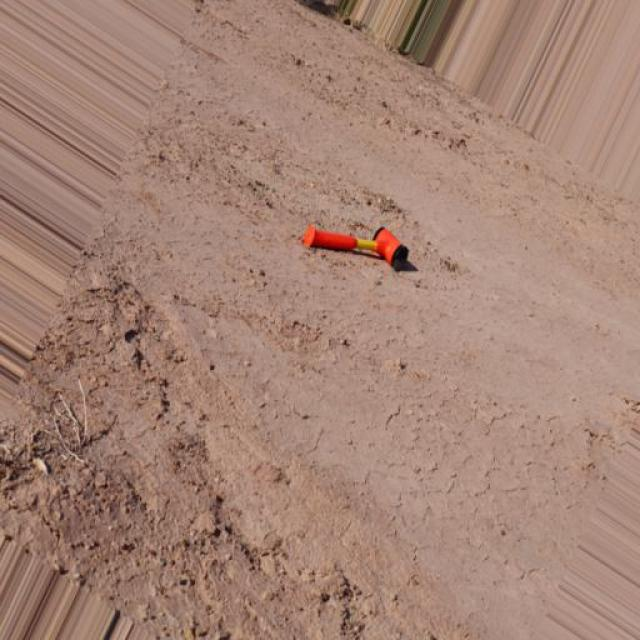mallet: (300, 222, 410, 268)
